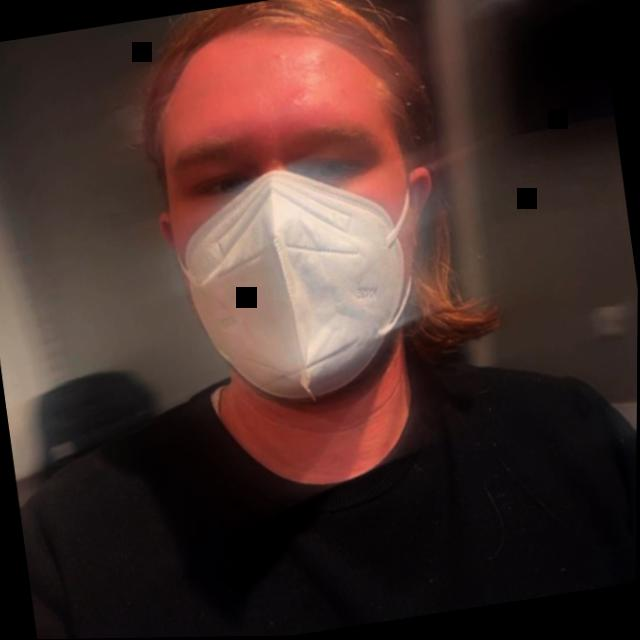Mask: (111, 0, 499, 421)
